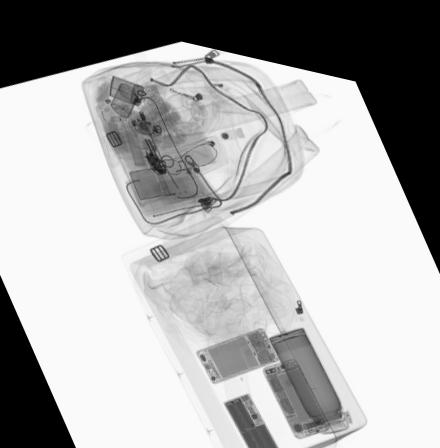Powerbank: (223, 380, 283, 448)
